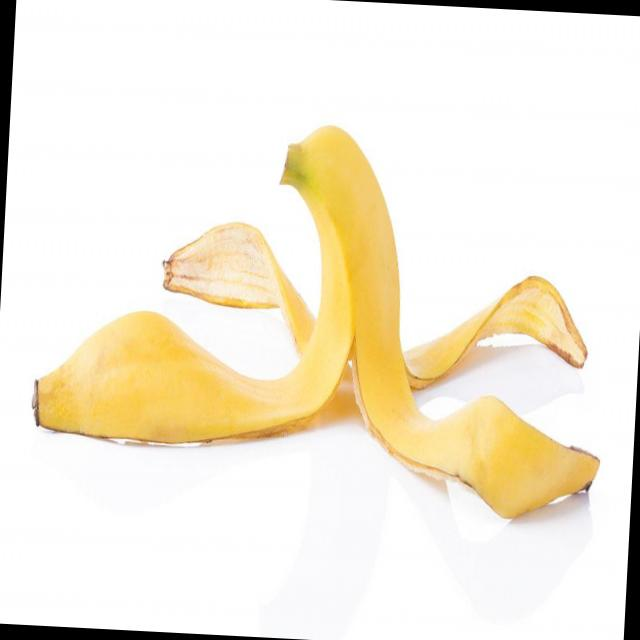banana: (57, 120, 420, 508)
